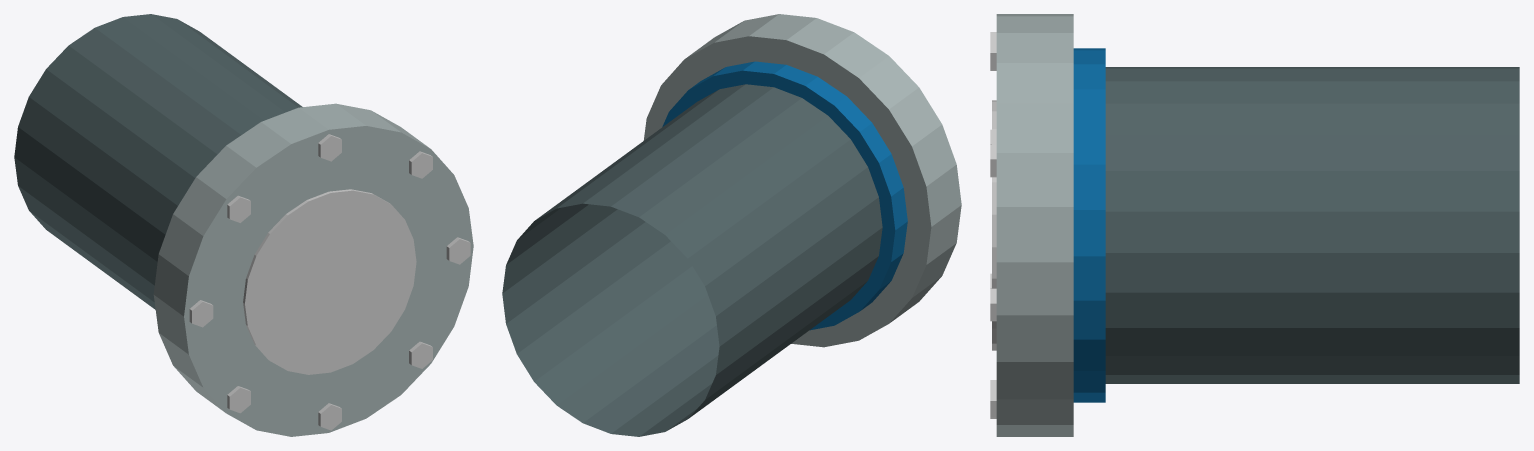
File: cell_7.obj
The picture shows the model from 3 angles, left to right: view 1: azimuth 30°, elevation 25°; view 2: azimuth 150°, elevation 25°; view 3: azimuth 270°, elevation 25°; orthographic projection. The views are drawn at different scales.
Bounding box in the file's own units: 0.8 × 0.8 × 0.997.
